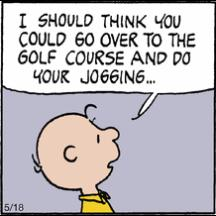charlie: (31, 103, 122, 215)
